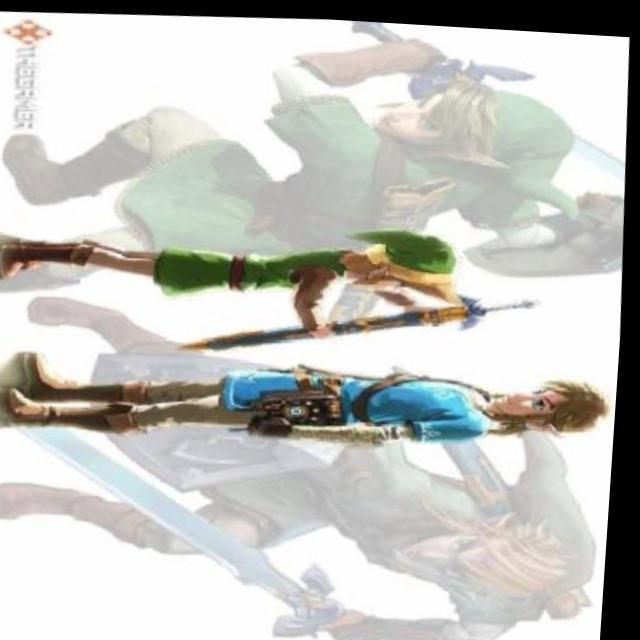weapon: (179, 272, 546, 363)
